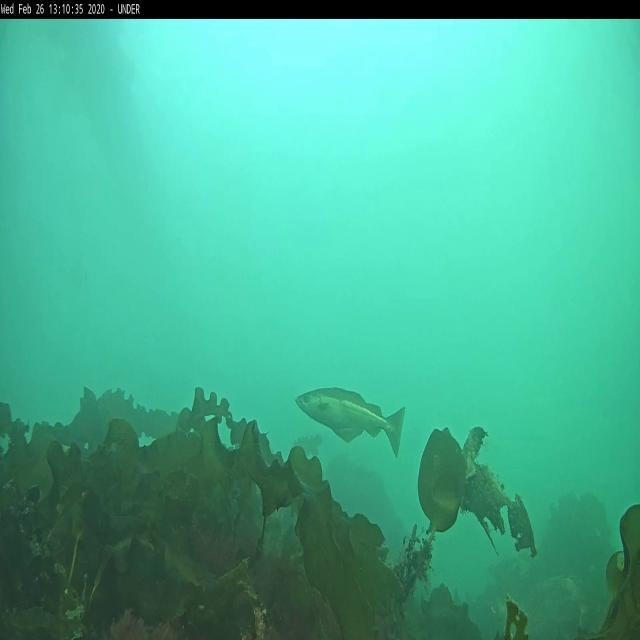fish: (298, 386, 402, 461)
